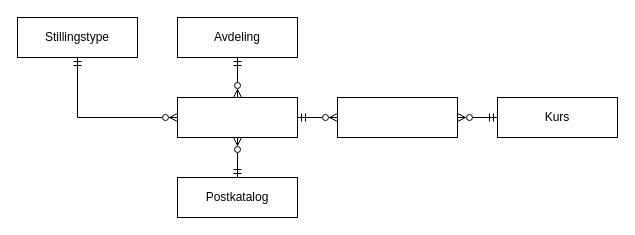
This 635x235 diagram has some shape labels left out. Here are the shapes that lost their labels. From the top down, the centre of each, then its label:
At point (237, 117): "Ansatt".
At point (397, 117): "Kursdeltagelse".
